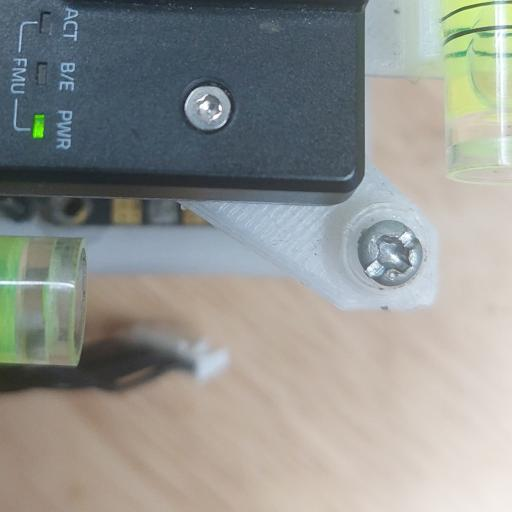Hex-Allen: (186, 80, 234, 134)
Phillips: (356, 217, 423, 290)
